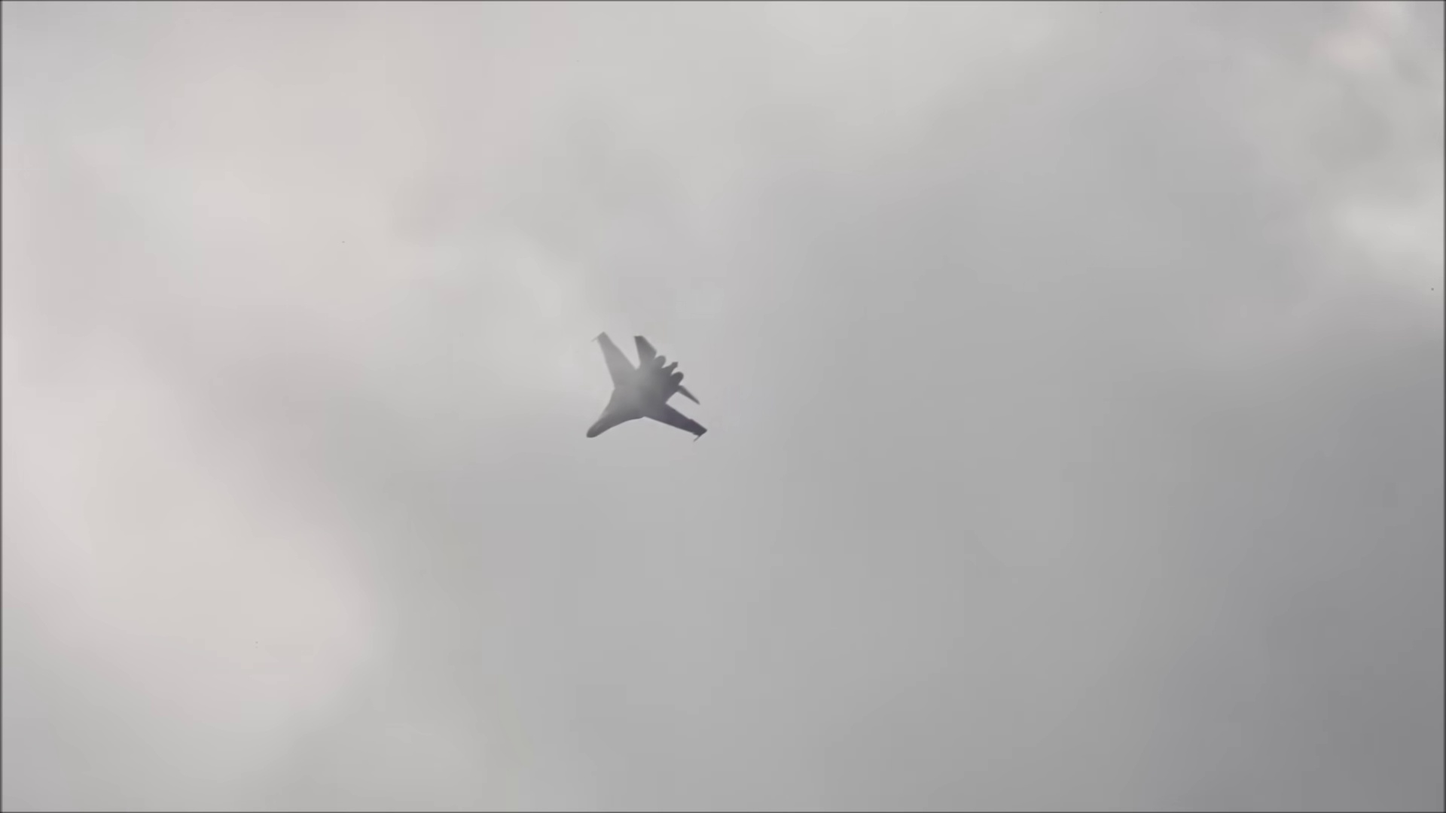Su35: (575, 326, 718, 456)
